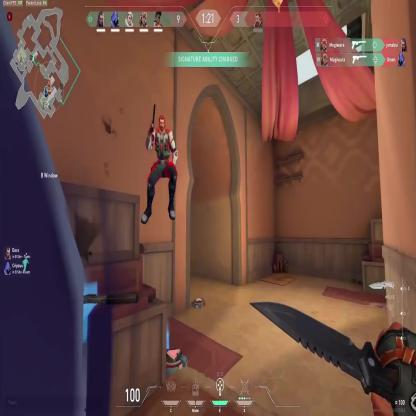enemy: (141, 113, 178, 224)
enemy_head: (158, 116, 167, 136)
